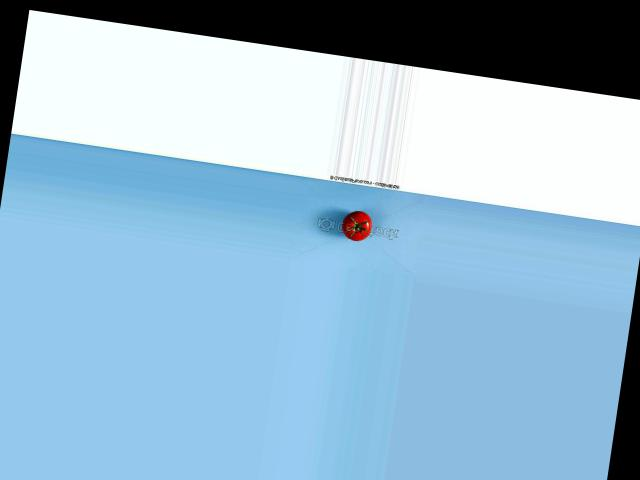tomato: (341, 208, 373, 242)
